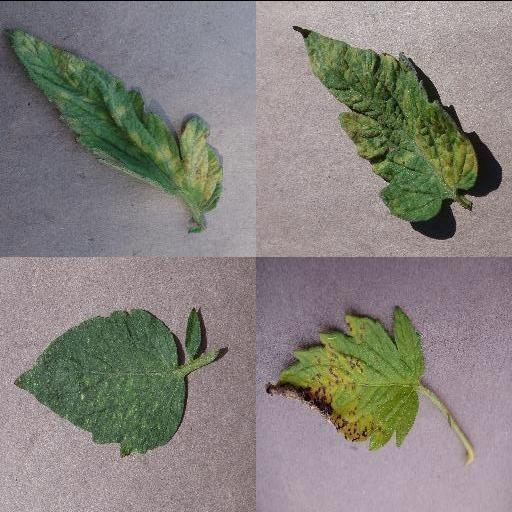Leaf Mold: (8, 28, 224, 214), (290, 24, 478, 222)
Septoria: (264, 304, 424, 449)
Spider Mites: (12, 308, 188, 458)
